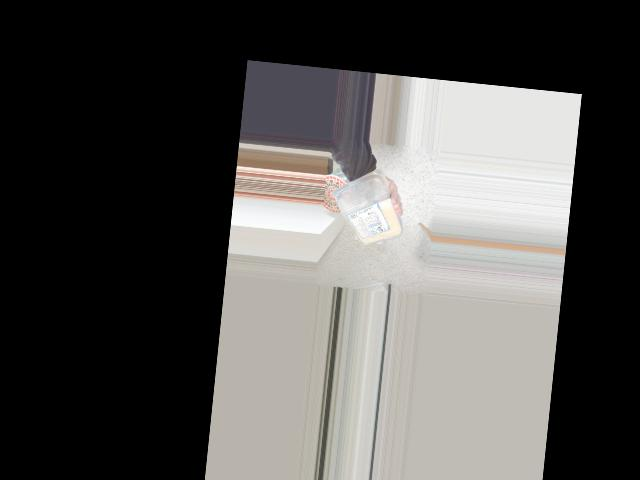cheese: (323, 182, 402, 250)
